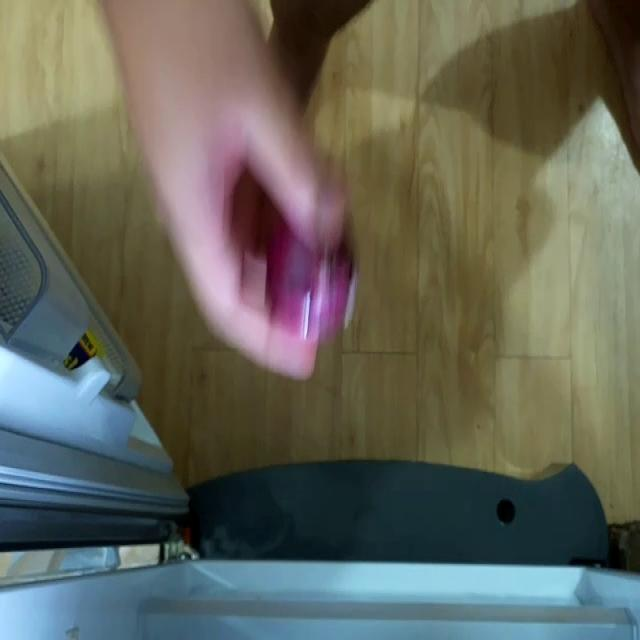onion: (271, 219, 361, 334)
